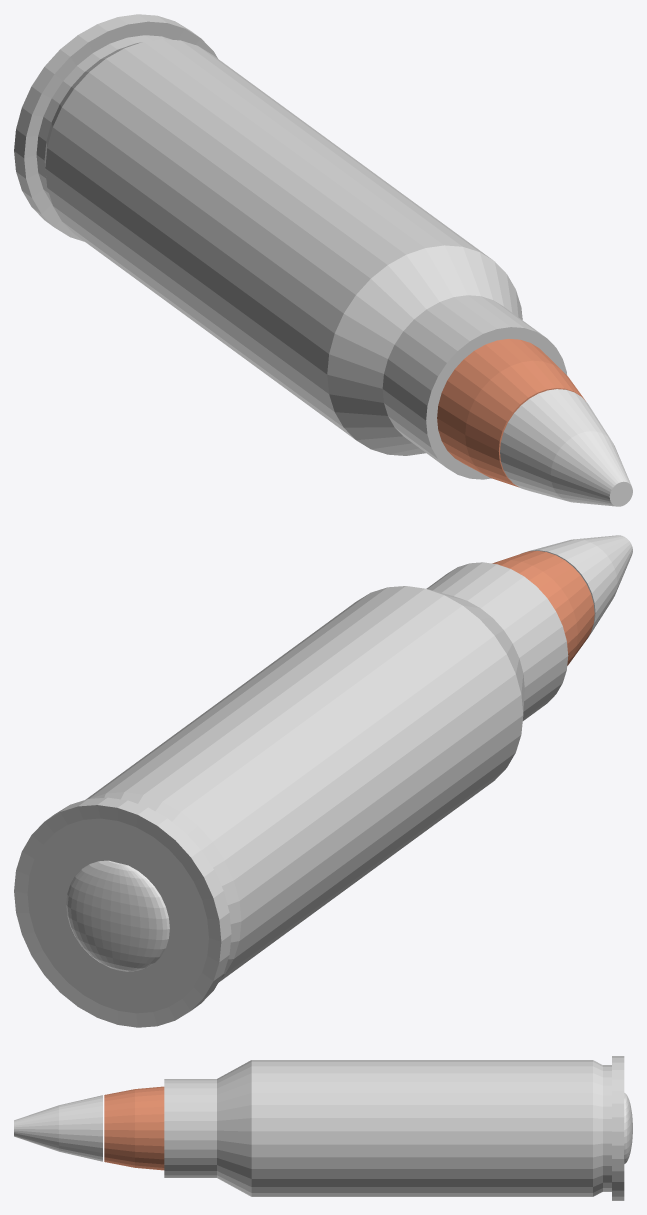
Rendered from scene_kaJq4x9eXN.glb.
3 views of the same model, one above another, from view 1: azimuth 30°, elevation 25°; view 2: azimuth 150°, elevation 25°; view 3: azimuth 270°, elevation 25° (orthographic). The views are drawn at different scales.
Parts seen in each view (by area): view 1: Cylinder, Cone, Cylinder.001; view 2: Cylinder, Sphere, Cylinder.001, Cone; view 3: Cylinder, Cylinder.001, Cone, Sphere.
Boxes of the visible parts, left/top/right/bottom form: Cylinder: left=14, top=14, right=567, bottom=479; Cone: left=500, top=389, right=632, bottom=506; Cylinder.001: left=437, top=339, right=585, bottom=487; Cylinder: left=14, top=562, right=568, bottom=1027; Sphere: left=66, top=860, right=169, bottom=971; Cylinder.001: left=492, top=550, right=594, bottom=665; Cone: left=521, top=535, right=632, bottom=638; Cylinder: left=164, top=1056, right=624, bottom=1200; Cylinder.001: left=104, top=1086, right=164, bottom=1170; Cone: left=14, top=1095, right=102, bottom=1161; Sphere: left=624, top=1093, right=632, bottom=1163.
Size of the model in its own units: 2.11 by 2.11 by 9.03.
